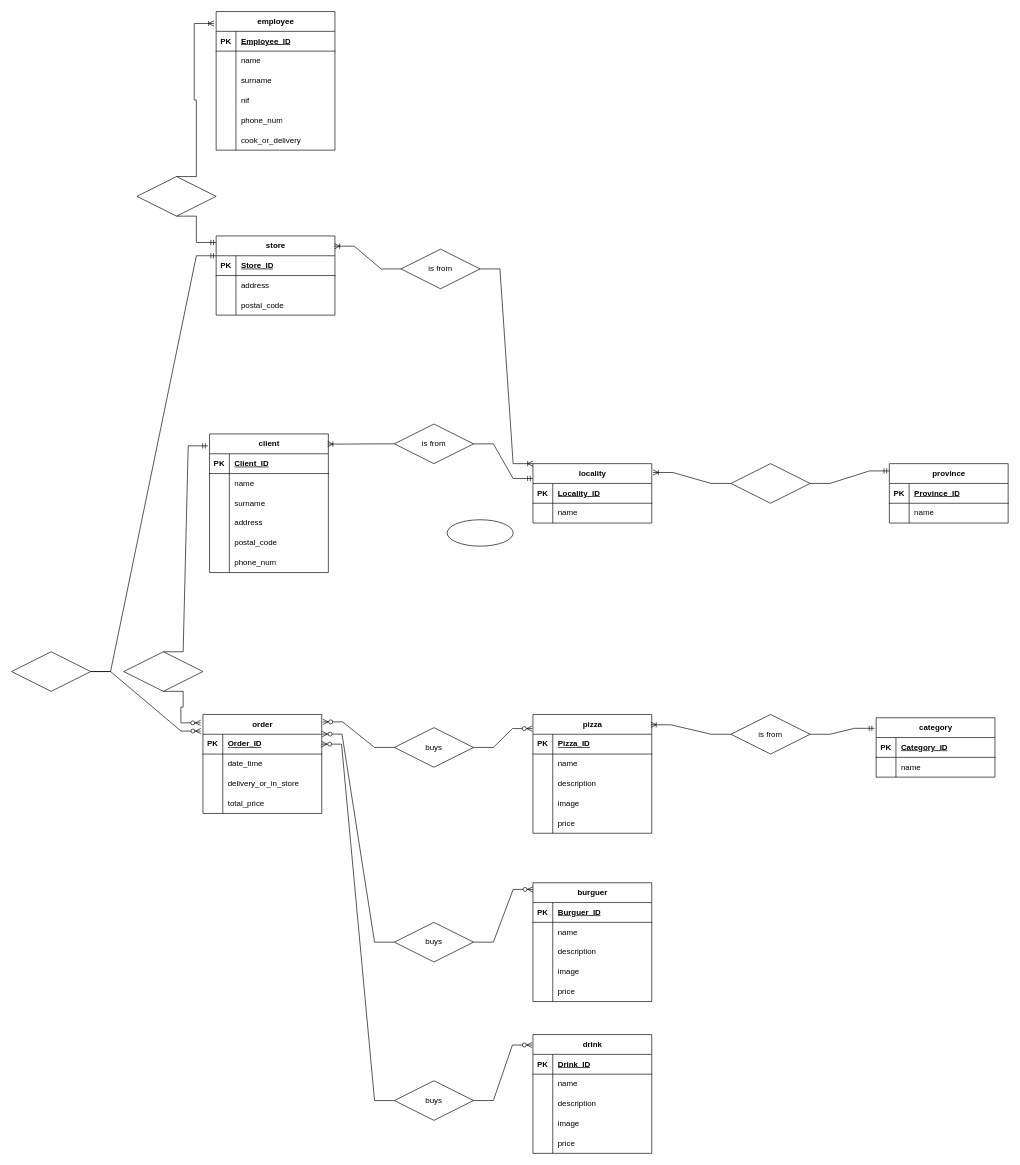
Some shapes in this 1020 by 1165 pixel diagram are drawn without their labels. The box of each missing label's shape, as (x1, y1, x2, y2) in pixels:
Attribute: (446, 519, 513, 546)
belongs to: (730, 463, 810, 503)
from: (11, 651, 91, 691)
has: (136, 176, 216, 216)
makes: (123, 651, 203, 691)
